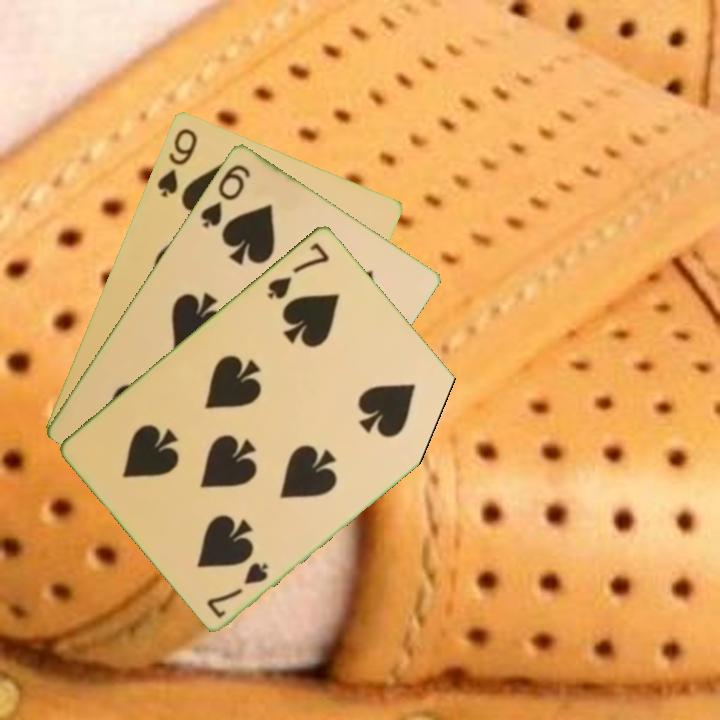6s: (196, 160, 254, 231)
7s: (264, 238, 332, 302), (203, 558, 272, 621)
9s: (153, 124, 200, 200)
